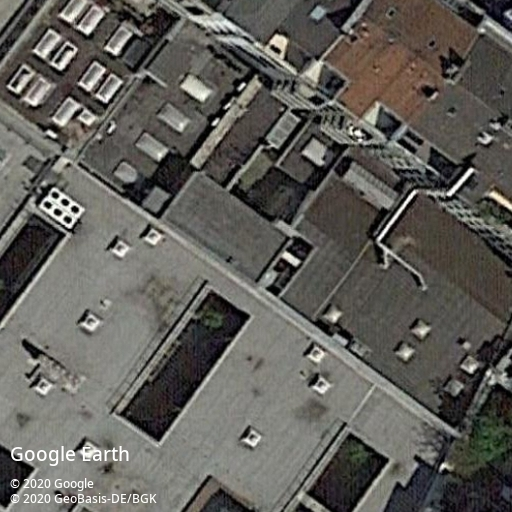Chiller: (38, 187, 87, 229)
